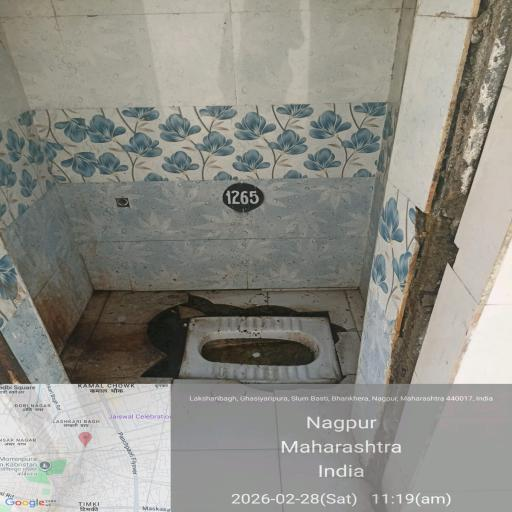clean_floor: (51, 32, 429, 187)
dirty_floor: (106, 292, 486, 500)
dirty_indian: (126, 292, 370, 390)
